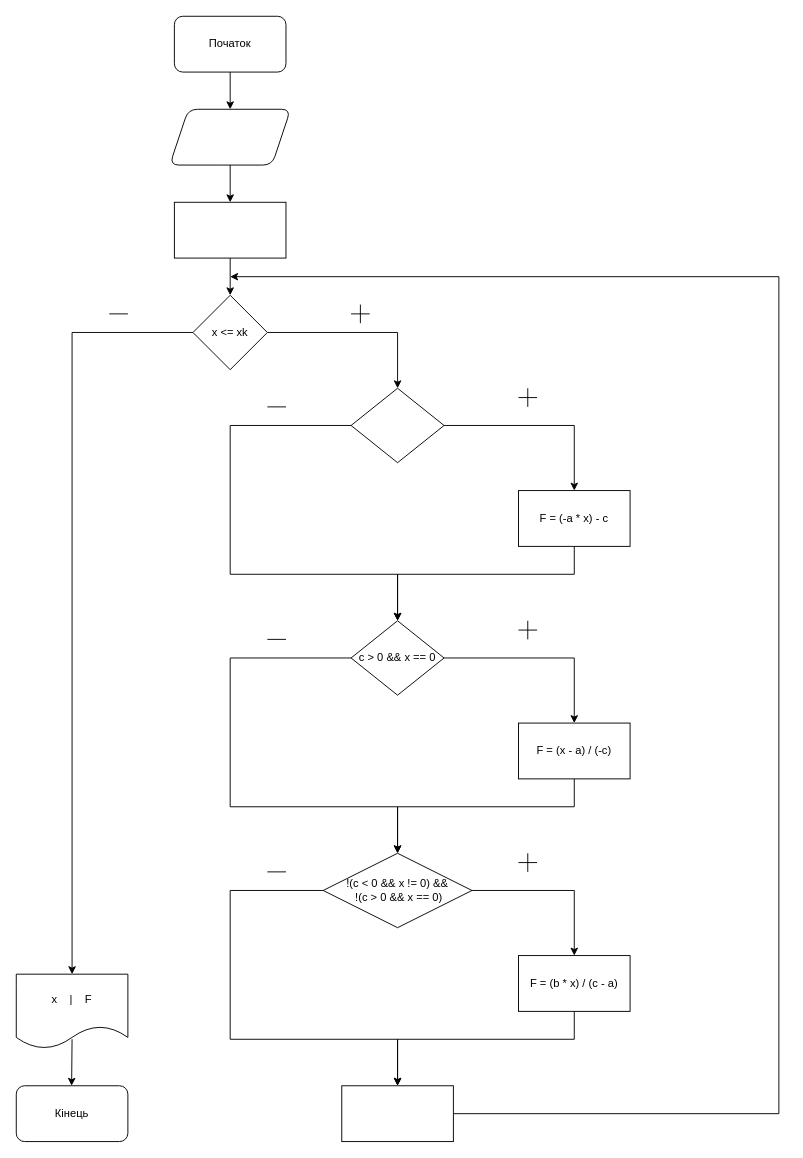
The diagram is 803 pixels wide and 1158 high, and some of its shapes have lost their labels. Each missing label, with the centre of its shape:
c < 0 && x != 0: (397,425)
x += dx: (397,1113)
x = xp: (229,229)
x, xk, xp, dx, a, b, c: (230,136)
